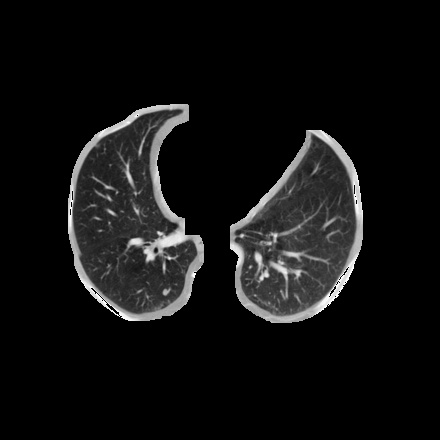PN: (162, 289, 168, 295)
